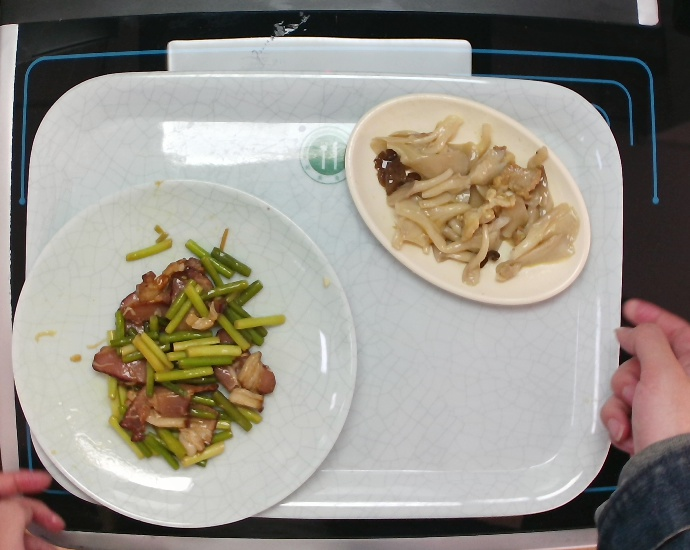JYsf-Da_Yuan_Pan: (6, 173, 361, 536)
JYsf-Tuo_Yuan_Wan: (335, 90, 596, 313)
